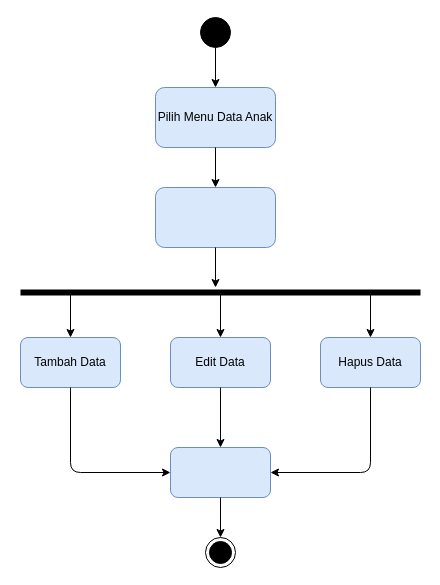
The diagram is 440 pixels wide and 585 high, and some of its shapes have lost their labels. The centre of each missing label's shape, as x and y in pixels:
Simpan ke DB: point 220,472
Tampilkan List Anak: point 215,217
